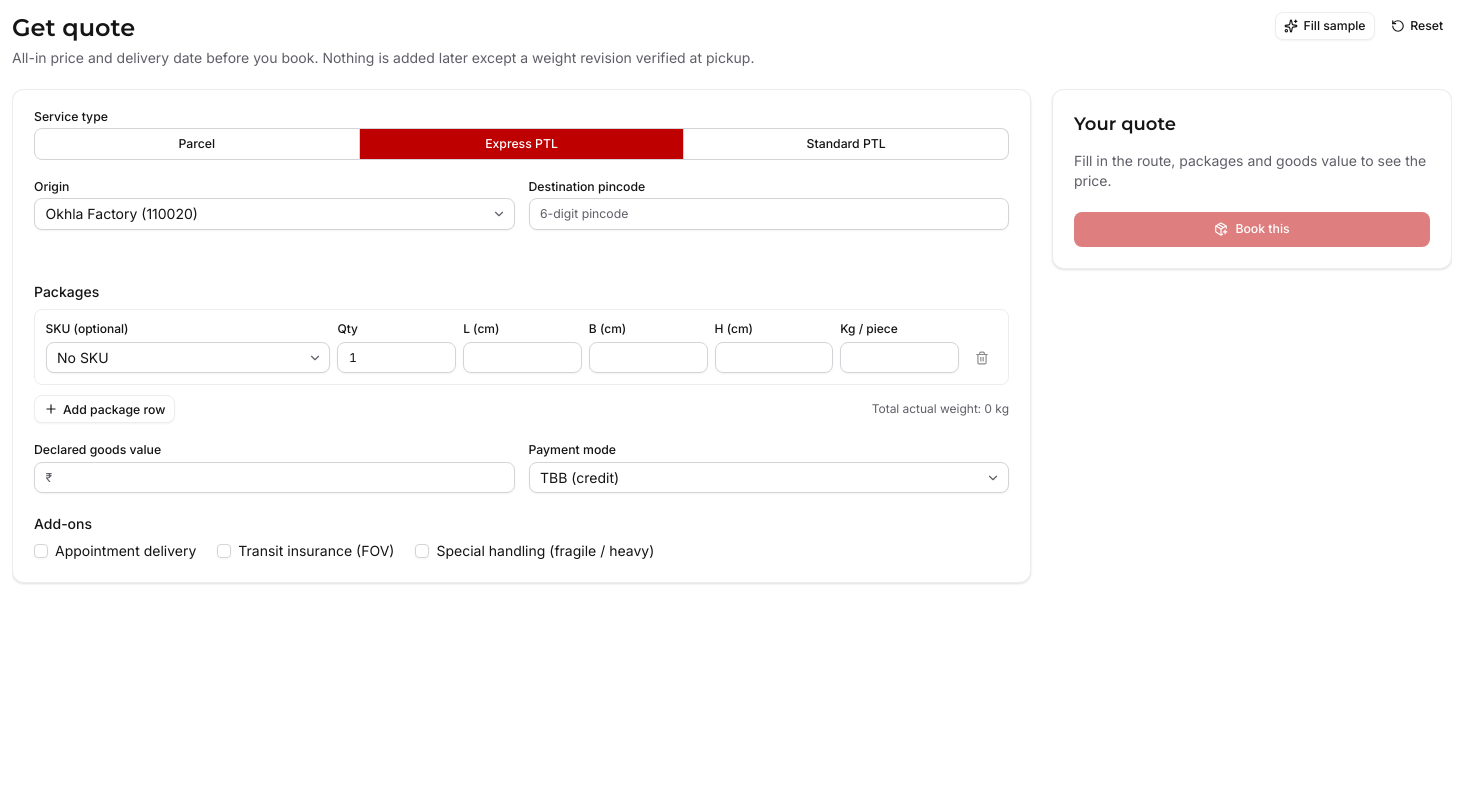
Test: CP-12 Get quote › a pincode we do not serve disables Book with the spec message
Click the button "Fill sample": x=1325, y=26 [1274,12,1375,40]
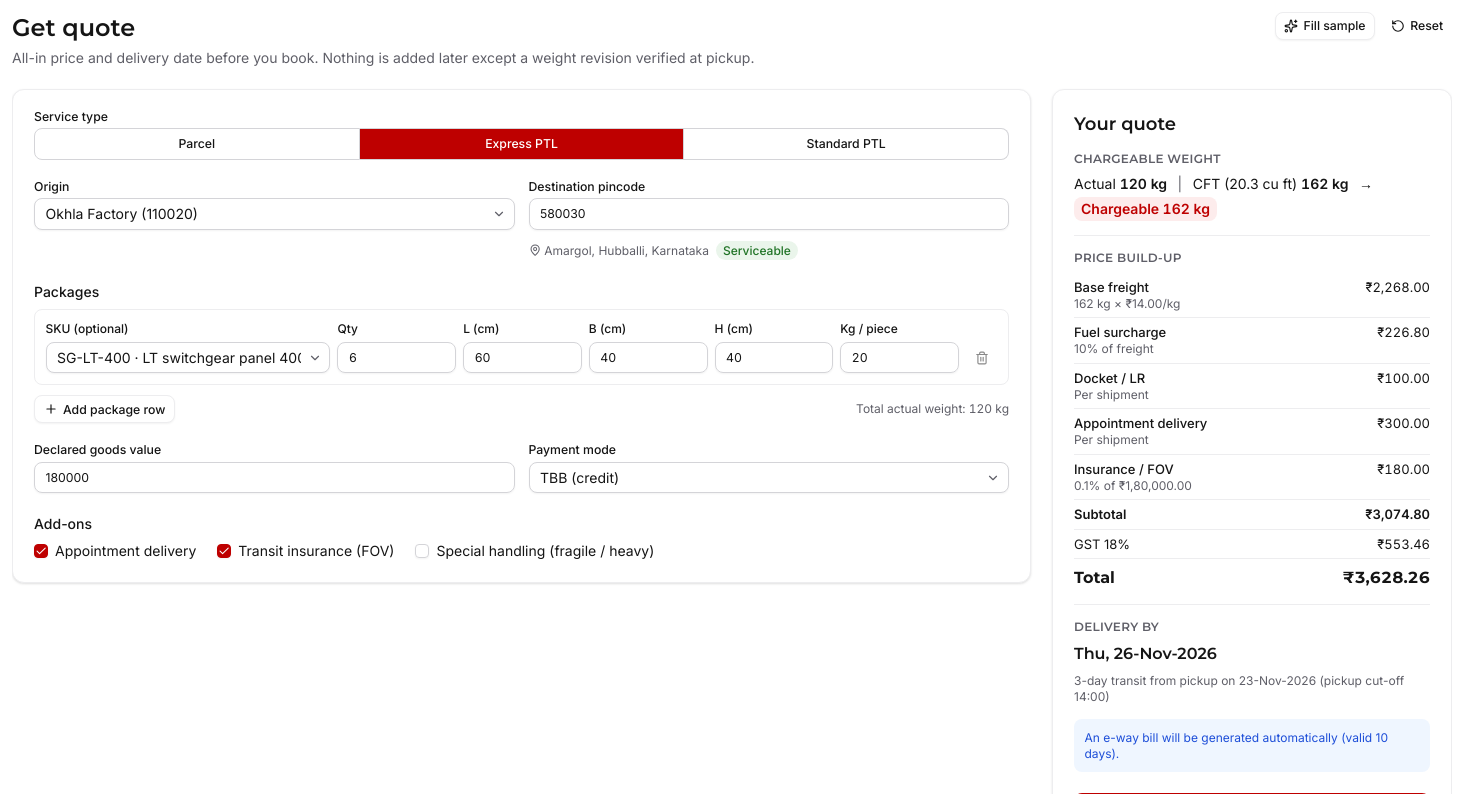
Replace the text in the field labelled "Destination pincode" with "600032": x=769, y=214 [528,198,1009,230]
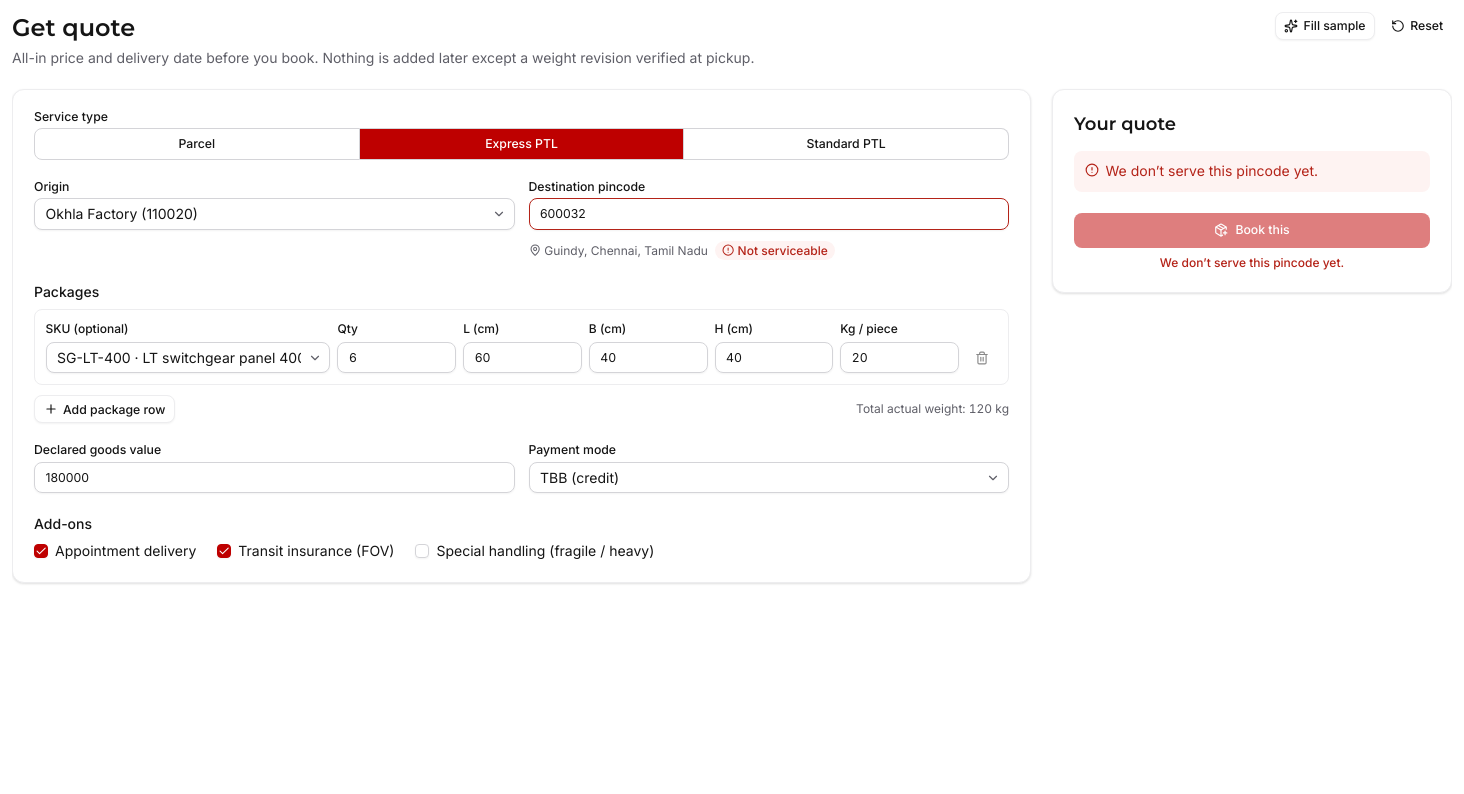
Now the 1st text "We don’t serve this pincode yet." is shown, box [1106,161,1318,181]
Now the button "Book this" is disabled, box [1074,212,1430,248]
